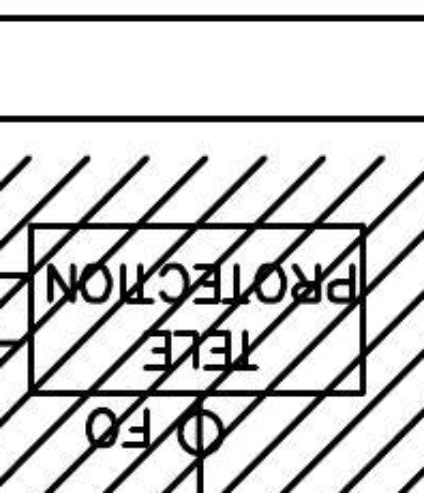tele_protection: (22, 217, 372, 402)
